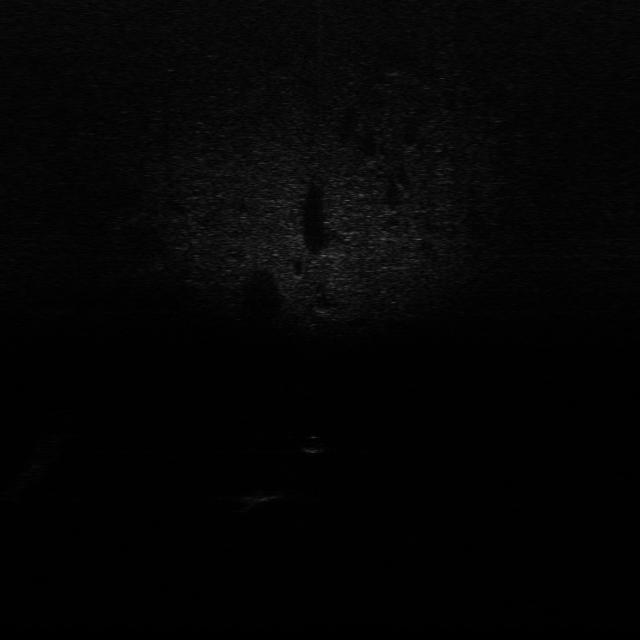ball: (297, 432, 328, 457)
square cage: (241, 482, 288, 505)
